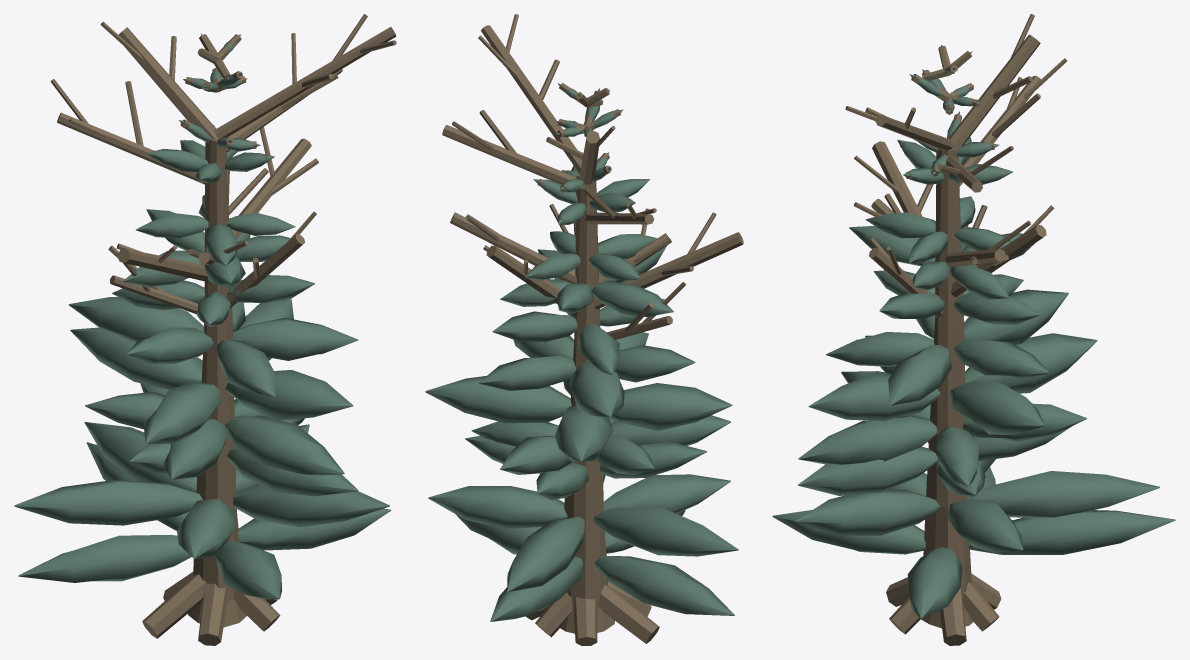
Rendered from conifer_c.glb.
3 views of the same model, side by side, from view 1: azimuth 30°, elevation 25°; view 2: azimuth 150°, elevation 25°; view 3: azimuth 270°, elevation 25° (orthographic). The views are drawn at different scales.
Parts seen in each view (by area): view 1: conifer_c LOD0; view 2: conifer_c LOD0; view 3: conifer_c LOD0.
Part boxes in pixels (x1,y1,x2,y2): conifer_c LOD0: (14, 14, 396, 645); conifer_c LOD0: (425, 14, 743, 645); conifer_c LOD0: (772, 14, 1175, 645).
Size of what is drawn, in the model's own units: 5.53 by 9.05 by 5.74.
